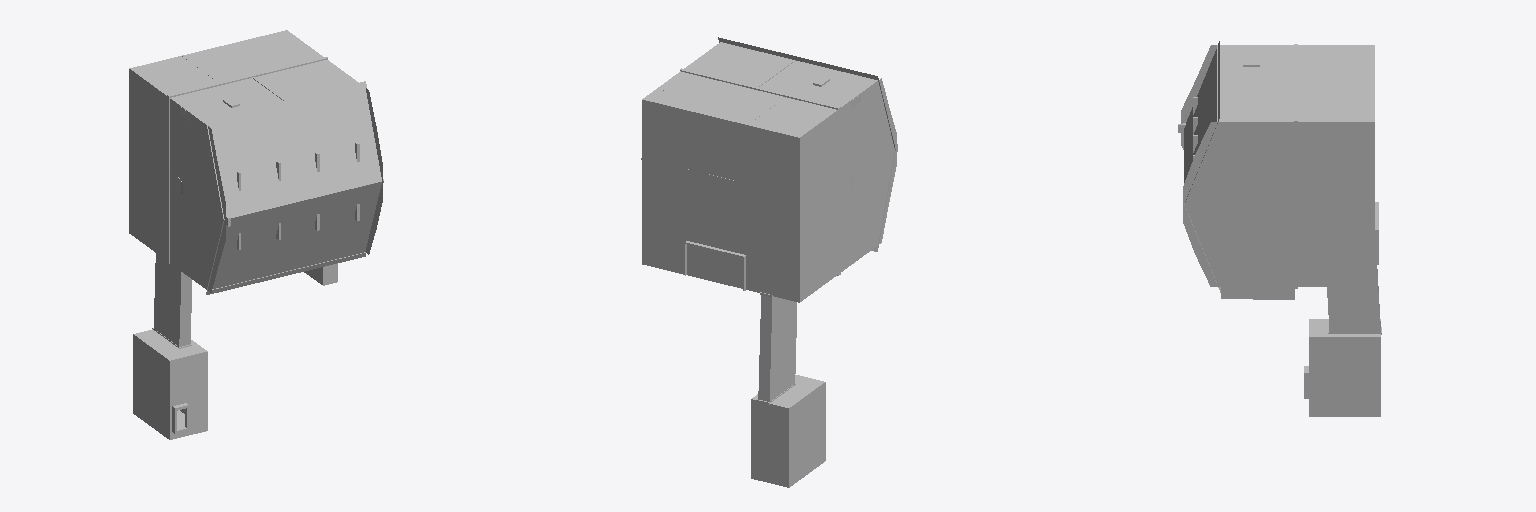
File: OldHouseWalls-sharedassets3.assets-1089.obj
3 renders of one model, left to right at view 1: azimuth 30°, elevation 25°; view 2: azimuth 150°, elevation 25°; view 3: azimuth 270°, elevation 25°, orthographic.
Visible parts, largest first — view 1: OldHouseWalls_0; view 2: OldHouseWalls_0; view 3: OldHouseWalls_0.
Part boxes in pixels (bbox=[...]): OldHouseWalls_0: bbox=[129, 30, 383, 439]; OldHouseWalls_0: bbox=[641, 37, 897, 487]; OldHouseWalls_0: bbox=[1178, 41, 1381, 416].
Bounding box in the file's own units: 0.0203 × 0.043 × 0.0225.